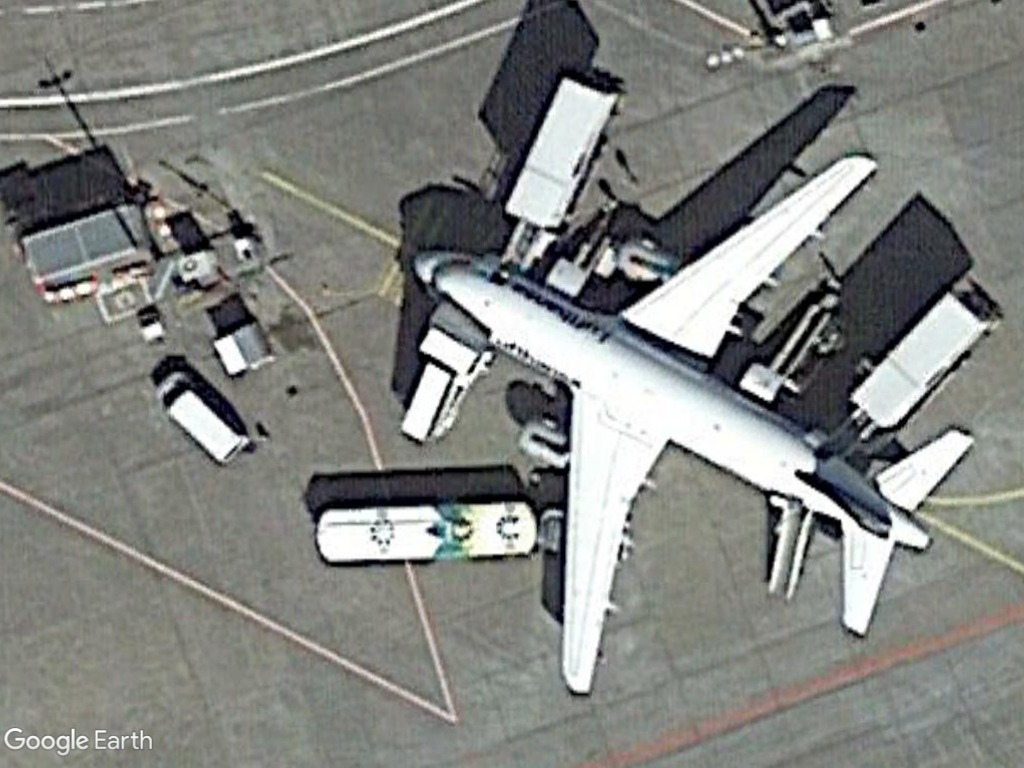airliner: (399, 144, 980, 704)
longvehicle: (310, 499, 540, 573)
van: (151, 370, 253, 466)
